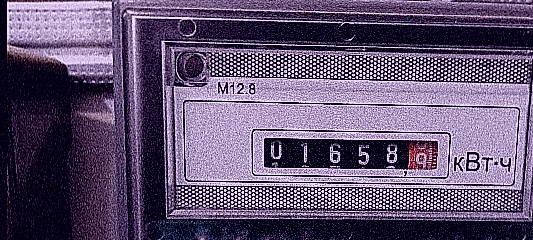0: (269, 138, 282, 160)
1: (299, 141, 309, 163)
5: (356, 142, 370, 165)
6: (327, 141, 341, 163)
8: (384, 141, 398, 163)
9: (412, 150, 426, 171)
screen: (245, 123, 457, 183)
